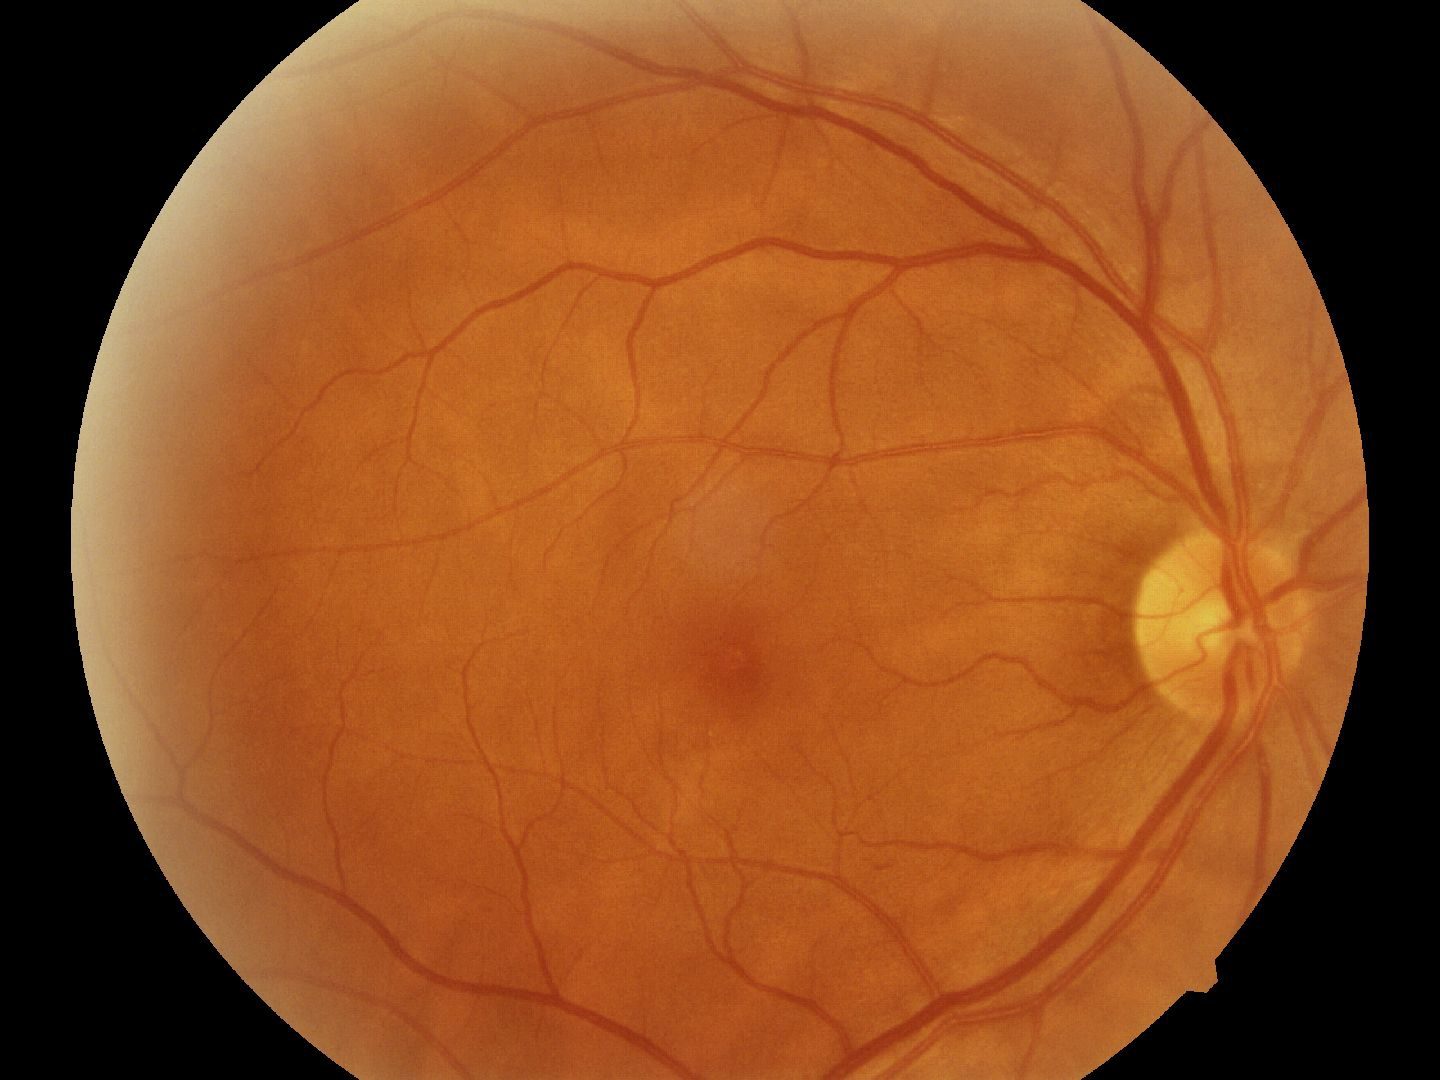Hemorrhages: (680, 594, 796, 748)
Optic-Disc: (1141, 520, 1316, 725)
Venules: (891, 101, 1209, 408), (901, 804, 1174, 1036)
